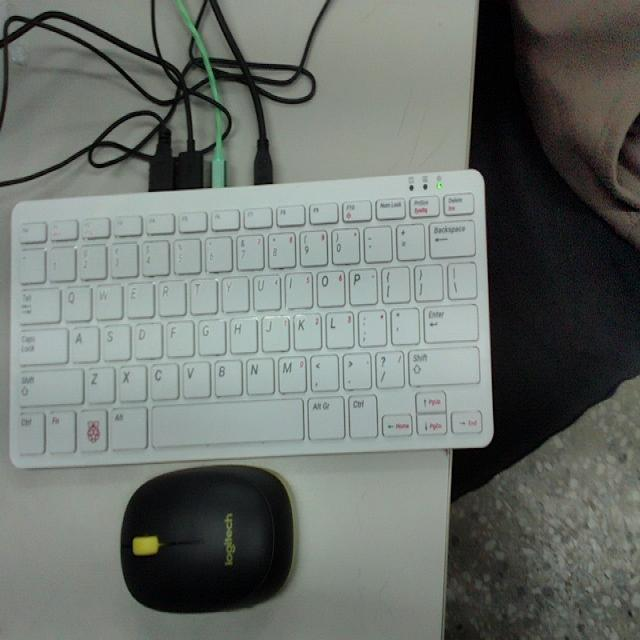keyboard: (13, 186, 488, 459)
